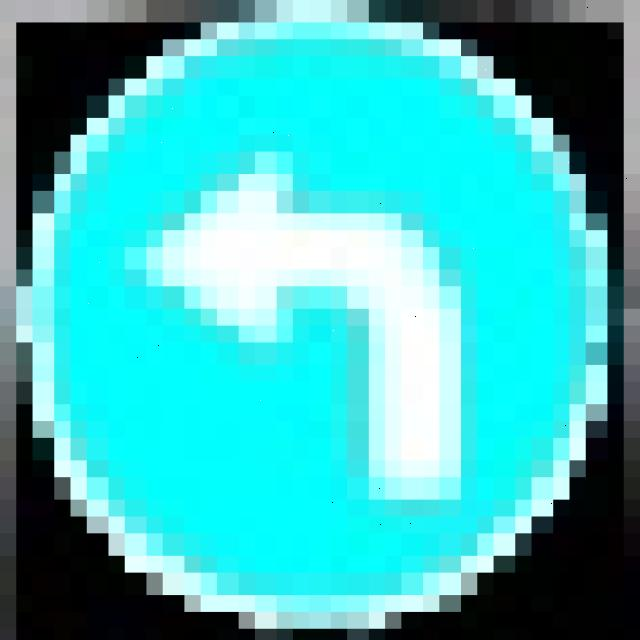left: (114, 141, 493, 518)
